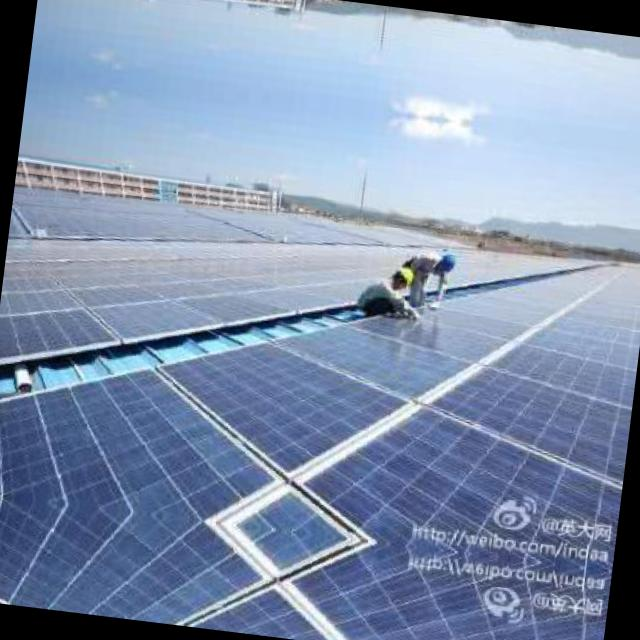helmet: (392, 264, 414, 292), (434, 248, 456, 274)
